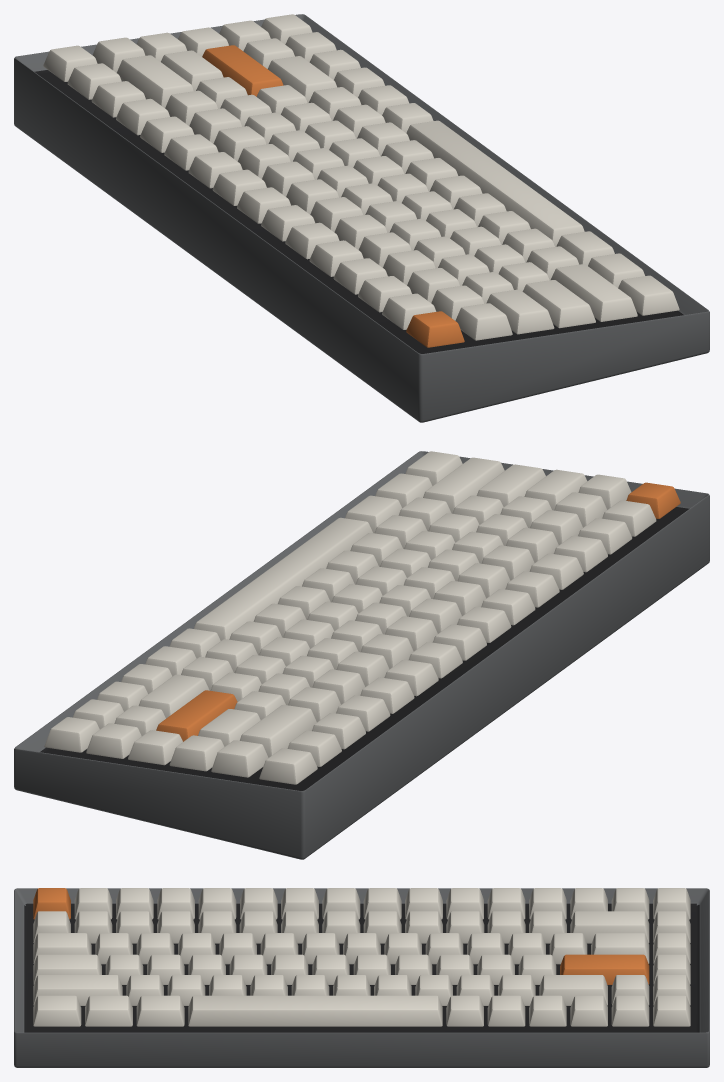
File: keyboard.fbx
3 renders of one model, top to bottom at view 1: azimuth 30°, elevation 25°; view 2: azimuth 150°, elevation 25°; view 3: azimuth 270°, elevation 25°, orthographic. The views are drawn at different scales.
Parts seen in each view (by area): view 1: keyboard; view 2: keyboard; view 3: keyboard.
Boxes of the visible parts, x1,y1,x2,y2 form: keyboard: [14, 14, 709, 422]; keyboard: [14, 451, 709, 859]; keyboard: [14, 888, 709, 1067].
Size of the model in its own units: 0.132 by 0.32 by 0.0354.
